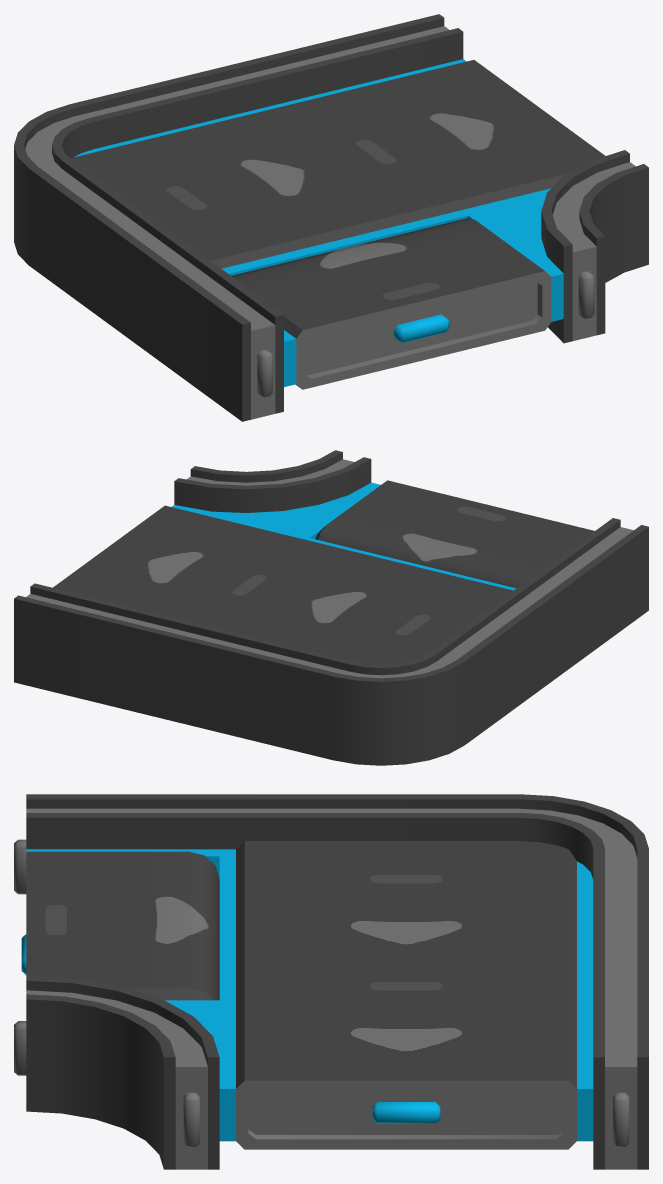
File: Conveyor_Belt_Turn_01.fbx
The picture shows the model from 3 angles, top to bottom: view 1: azimuth 30°, elevation 25°; view 2: azimuth 150°, elevation 25°; view 3: azimuth 270°, elevation 25°; orthographic projection. The views are drawn at different scales.
Visible parts, largest first — view 1: Conveyor_Belt_Turn_01; view 2: Conveyor_Belt_Turn_01; view 3: Conveyor_Belt_Turn_01.
Part boxes in pixels (<box>): Conveyor_Belt_Turn_01: <box>14,14,648,421</box>; Conveyor_Belt_Turn_01: <box>14,450,648,765</box>; Conveyor_Belt_Turn_01: <box>14,794,648,1169</box>.
Bounding box in the file's own units: 167 × 32.6 × 167.
